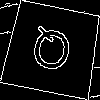Q: (27, 24, 75, 81)
